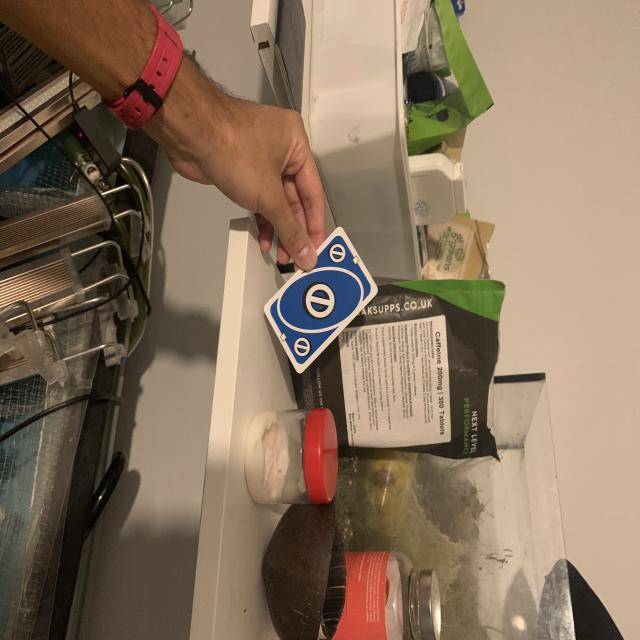lblueskip-20: (326, 240, 348, 266)
